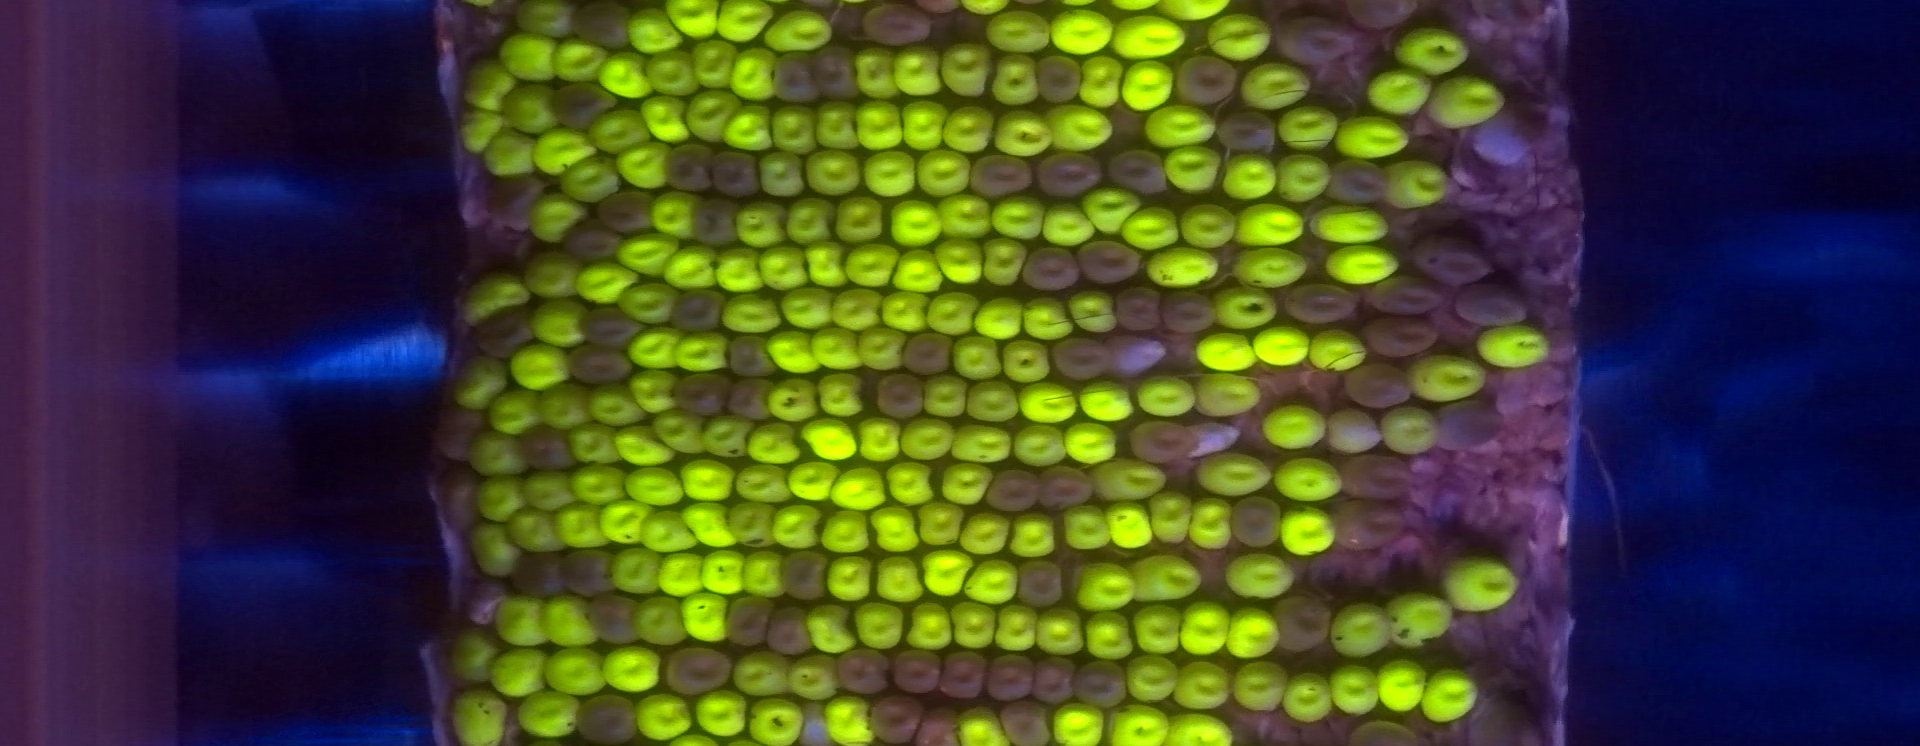fluorescent: (1438, 555, 1518, 612), (1435, 72, 1502, 129), (1129, 556, 1198, 608), (1414, 352, 1485, 401), (1385, 595, 1453, 646), (1393, 28, 1469, 73), (462, 274, 531, 323), (1333, 598, 1389, 658), (1046, 105, 1113, 154), (936, 38, 989, 97), (1479, 322, 1549, 367), (1240, 62, 1309, 107), (1322, 243, 1397, 283), (517, 695, 583, 740), (572, 261, 636, 307), (1310, 205, 1387, 243), (1109, 18, 1184, 58), (1142, 107, 1215, 147), (682, 85, 736, 138), (451, 692, 507, 744), (468, 521, 518, 578), (1333, 118, 1407, 157), (820, 692, 879, 741), (1387, 159, 1447, 207), (507, 342, 572, 386), (1048, 9, 1111, 54), (1273, 456, 1336, 501), (1259, 407, 1329, 447), (468, 428, 525, 477), (1227, 555, 1294, 597), (560, 157, 620, 203), (1149, 246, 1220, 285), (1120, 60, 1174, 111), (1227, 608, 1281, 659), (1424, 670, 1476, 724), (984, 10, 1051, 51), (531, 134, 598, 175), (501, 36, 558, 83), (482, 129, 540, 176), (1075, 563, 1133, 611), (1365, 69, 1429, 111), (1201, 372, 1261, 418), (602, 648, 662, 693), (544, 592, 594, 646), (1382, 404, 1438, 453), (731, 646, 787, 693), (636, 692, 692, 740), (1093, 459, 1162, 499), (1209, 13, 1269, 58), (598, 49, 650, 99), (891, 45, 940, 99), (1082, 185, 1136, 234), (1136, 374, 1198, 416), (1234, 252, 1308, 288), (1199, 458, 1270, 495), (491, 599, 549, 644), (626, 327, 684, 371), (538, 382, 594, 428), (765, 13, 830, 53), (1120, 206, 1178, 250), (1325, 405, 1382, 450), (1191, 332, 1254, 372), (492, 650, 542, 701), (465, 58, 514, 109), (855, 96, 898, 154), (1283, 103, 1335, 152), (851, 47, 898, 100), (528, 194, 582, 240), (1239, 203, 1299, 245), (546, 650, 601, 696), (1218, 285, 1275, 330), (662, 246, 720, 289), (921, 149, 971, 198), (553, 502, 602, 552), (730, 49, 778, 100), (618, 140, 670, 187), (808, 147, 861, 194), (767, 330, 820, 375), (514, 1, 578, 39), (617, 284, 678, 323), (733, 197, 781, 247), (459, 356, 507, 407), (1127, 654, 1174, 704), (1282, 674, 1330, 724), (682, 598, 733, 644), (888, 197, 940, 243), (1280, 507, 1332, 552), (1174, 665, 1227, 710), (1380, 658, 1425, 710), (748, 697, 802, 741), (623, 9, 680, 50), (996, 109, 1052, 151), (1020, 381, 1076, 423), (940, 190, 988, 239), (806, 603, 853, 652), (1166, 147, 1216, 194), (1180, 601, 1227, 652), (631, 597, 682, 642), (675, 330, 729, 372), (651, 412, 705, 454), (595, 108, 650, 149), (525, 252, 580, 294), (1227, 149, 1273, 198), (682, 458, 731, 505), (598, 501, 647, 548), (618, 233, 675, 273), (638, 94, 689, 138), (722, 293, 784, 330), (613, 428, 675, 464), (996, 51, 1037, 105), (1180, 205, 1234, 246), (626, 467, 680, 508), (965, 561, 1019, 603), (1310, 330, 1365, 370), (916, 500, 962, 548), (1067, 290, 1117, 334), (1138, 604, 1182, 654), (1234, 661, 1284, 706), (744, 423, 801, 462), (647, 50, 698, 93), (864, 152, 916, 195), (683, 506, 736, 548), (486, 393, 544, 431), (898, 419, 955, 457), (1111, 706, 1168, 744), (458, 108, 504, 154), (836, 198, 883, 245), (1085, 614, 1131, 660), (1275, 156, 1322, 201), (725, 105, 774, 149), (566, 425, 621, 464), (476, 477, 525, 521), (1333, 665, 1378, 714), (696, 693, 744, 737), (629, 372, 680, 415), (1164, 710, 1229, 744), (1188, 497, 1229, 549), (789, 462, 841, 502), (520, 470, 573, 511), (1149, 490, 1188, 544), (857, 605, 904, 650), (769, 109, 817, 153), (716, 245, 760, 293), (907, 603, 951, 650), (932, 241, 981, 284), (891, 251, 942, 293), (553, 43, 605, 83), (1080, 58, 1120, 109), (1054, 702, 1106, 742), (504, 88, 557, 127), (923, 292, 976, 331), (953, 333, 998, 379), (1044, 198, 1091, 243), (1341, 720, 1420, 746), (816, 100, 857, 149), (943, 107, 992, 148), (831, 288, 880, 330), (973, 299, 1022, 341), (1082, 380, 1131, 421), (512, 508, 561, 550), (992, 194, 1042, 234), (1014, 425, 1064, 465), (591, 387, 647, 424), (798, 419, 855, 454), (531, 307, 584, 345), (1255, 326, 1308, 364), (613, 550, 658, 595), (923, 552, 969, 597), (650, 191, 697, 234), (857, 414, 900, 461), (951, 601, 993, 649), (950, 428, 1008, 462), (735, 465, 792, 500), (667, 1, 718, 40), (940, 465, 992, 503), (822, 511, 867, 554), (756, 153, 803, 194), (861, 330, 909, 370), (764, 382, 818, 418), (953, 713, 1013, 745), (698, 38, 735, 89), (760, 244, 803, 288), (781, 287, 833, 323), (703, 418, 754, 454), (1064, 505, 1108, 548), (659, 552, 703, 595), (827, 557, 869, 601), (996, 606, 1040, 649), (905, 100, 947, 146), (1004, 339, 1049, 381), (873, 510, 918, 551), (744, 551, 786, 597), (456, 631, 497, 676), (789, 657, 834, 698), (984, 238, 1025, 284), (730, 502, 776, 543), (718, 2, 767, 40), (702, 551, 744, 594), (640, 510, 684, 551), (1109, 503, 1151, 548), (1037, 610, 1081, 652), (845, 245, 894, 282), (571, 469, 621, 505), (1024, 298, 1070, 336), (813, 330, 860, 367), (888, 463, 931, 503), (790, 198, 829, 243), (924, 376, 969, 415), (820, 372, 866, 410), (960, 514, 1005, 552), (1068, 424, 1114, 461), (879, 556, 916, 603), (880, 296, 929, 331), (806, 247, 847, 287), (1013, 516, 1056, 554), (966, 385, 1015, 418), (831, 474, 882, 505), (774, 508, 816, 545), (1163, 1, 1229, 20), (958, 1, 1008, 13)
nonfluorescent: (1469, 684, 1540, 746), (1431, 401, 1509, 453), (1330, 501, 1406, 552), (1336, 453, 1416, 502), (1414, 233, 1490, 283), (1450, 283, 1536, 326), (1280, 282, 1368, 323), (1277, 21, 1354, 65), (858, 4, 937, 47), (1487, 104, 1539, 168), (1123, 423, 1202, 464), (1180, 54, 1240, 109), (1037, 151, 1104, 200), (1362, 314, 1438, 356), (1273, 594, 1330, 652), (1104, 148, 1168, 198), (1076, 236, 1145, 283), (471, 305, 538, 352), (1342, 360, 1412, 404), (579, 695, 643, 742), (566, 1, 631, 48), (1226, 497, 1282, 550), (669, 649, 733, 695), (1326, 158, 1390, 203), (1216, 108, 1276, 156), (1107, 332, 1168, 379), (987, 463, 1041, 516), (1051, 338, 1113, 382), (489, 173, 540, 225), (560, 548, 612, 599), (1011, 559, 1067, 608), (508, 549, 564, 597), (431, 401, 478, 458), (1111, 283, 1163, 333), (1373, 272, 1435, 314), (516, 424, 574, 468), (564, 345, 634, 382), (555, 85, 616, 126), (1040, 467, 1097, 511), (939, 649, 987, 702), (1022, 245, 1078, 290), (580, 306, 644, 345), (771, 47, 816, 103), (729, 594, 771, 652), (1076, 659, 1127, 708), (589, 594, 640, 642), (1162, 293, 1221, 334), (970, 156, 1033, 194), (838, 646, 888, 693), (675, 371, 729, 415), (902, 333, 958, 376), (889, 650, 939, 697), (998, 699, 1048, 746), (598, 191, 655, 232), (784, 554, 827, 606), (989, 653, 1031, 706), (816, 47, 856, 99), (666, 146, 710, 194), (462, 579, 504, 628), (1031, 653, 1073, 703), (440, 465, 473, 528), (1041, 54, 1080, 107), (670, 289, 722, 328), (871, 697, 917, 741), (711, 153, 759, 196), (771, 601, 809, 655), (692, 202, 740, 244), (877, 375, 924, 416), (566, 222, 620, 258), (730, 375, 770, 424), (1349, 1, 1419, 29), (727, 337, 776, 376), (913, 707, 959, 746)
